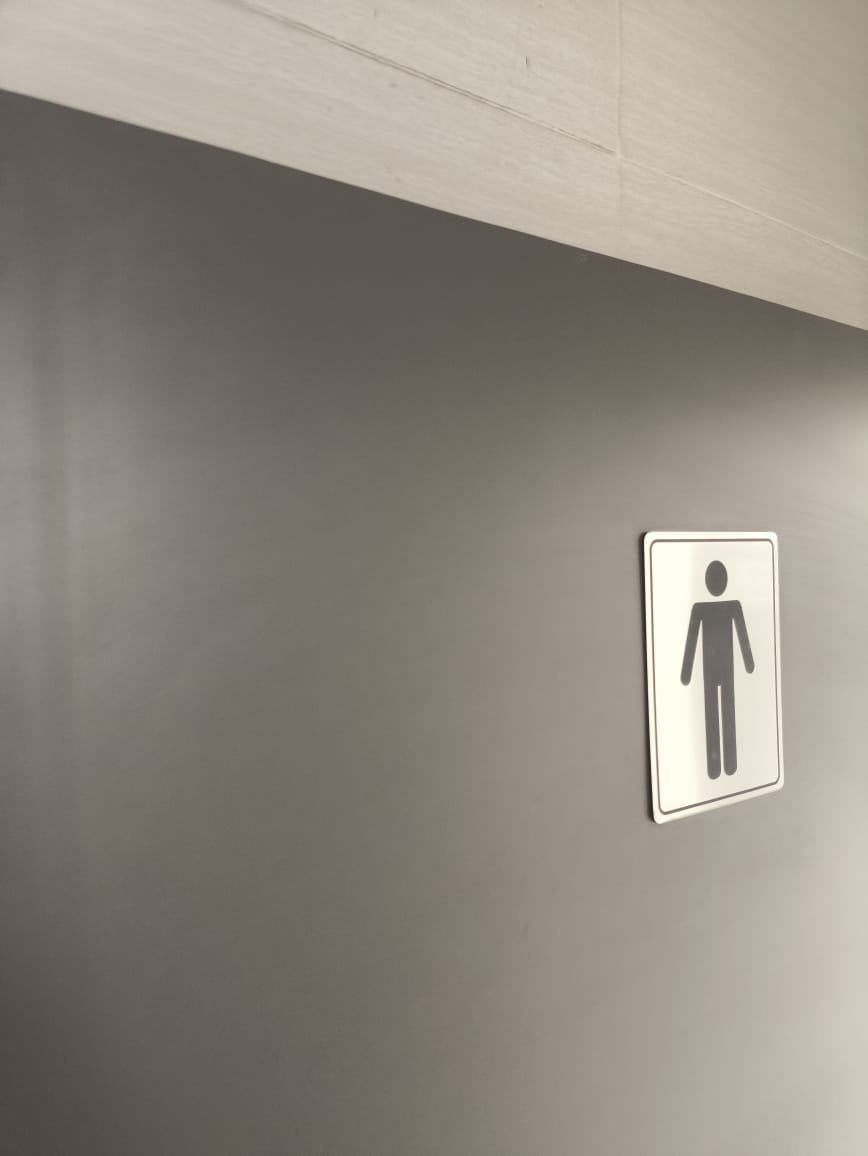toilet laki-laki: (626, 522, 796, 832)
